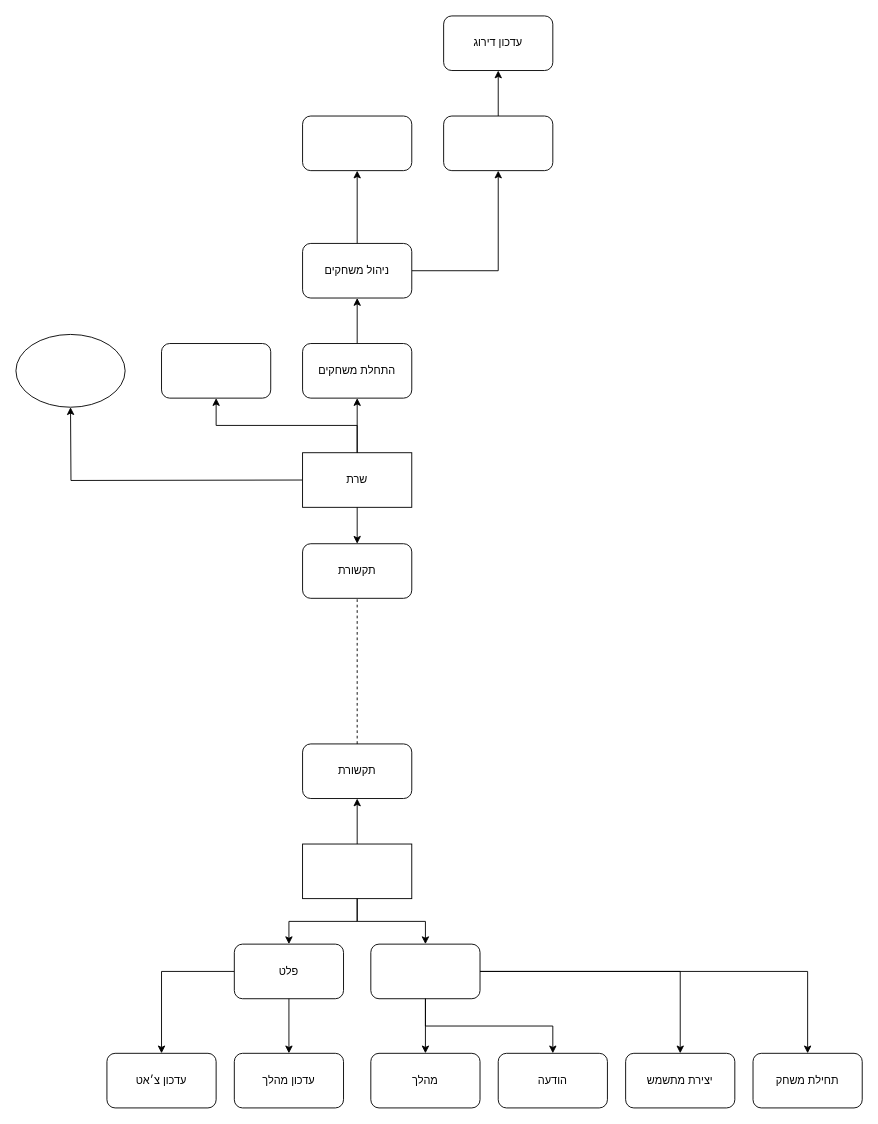
Image size: 878x1124. Some labels were removed from this diagram. The shapes that lost their labels are listed below. From the top down, each one's centre as x and y in pixels, then its label:
At point (357, 143): "בדיקת חוקיות".
At point (498, 143): "בדיקת מצב ניצחון".
At point (70, 370): "מאגר נתונים".
At point (216, 370): "ניהול משתמשים".
At point (357, 871): "לקוח".
At point (425, 971): "קלט".
